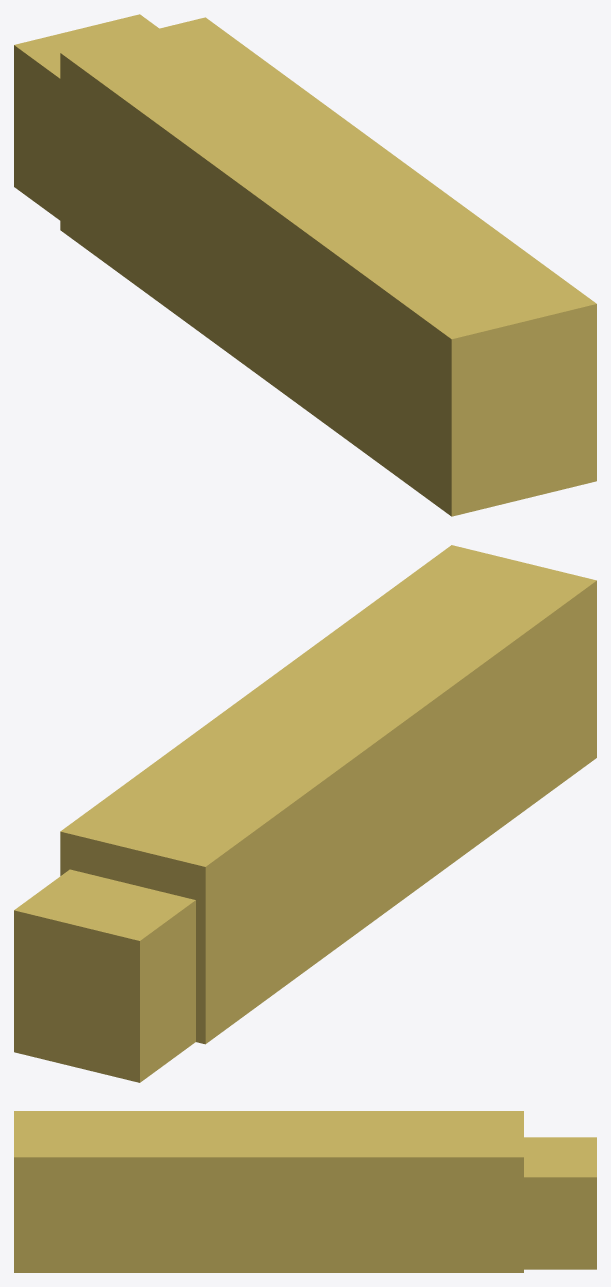
File: train.glb
3 renders of one model, top to bottom at view 1: azimuth 30°, elevation 25°; view 2: azimuth 150°, elevation 25°; view 3: azimuth 270°, elevation 25°, orthographic. The views are drawn at different scales.
Parts seen in each view (by area): view 1: world; view 2: world; view 3: world.
Part boxes in pixels (left/top/right/bottom): world: left=14, top=14, right=596, bottom=516; world: left=14, top=545, right=596, bottom=1082; world: left=14, top=1111, right=596, bottom=1272.
Size of the model in its own units: 3 by 3.5 by 16.
